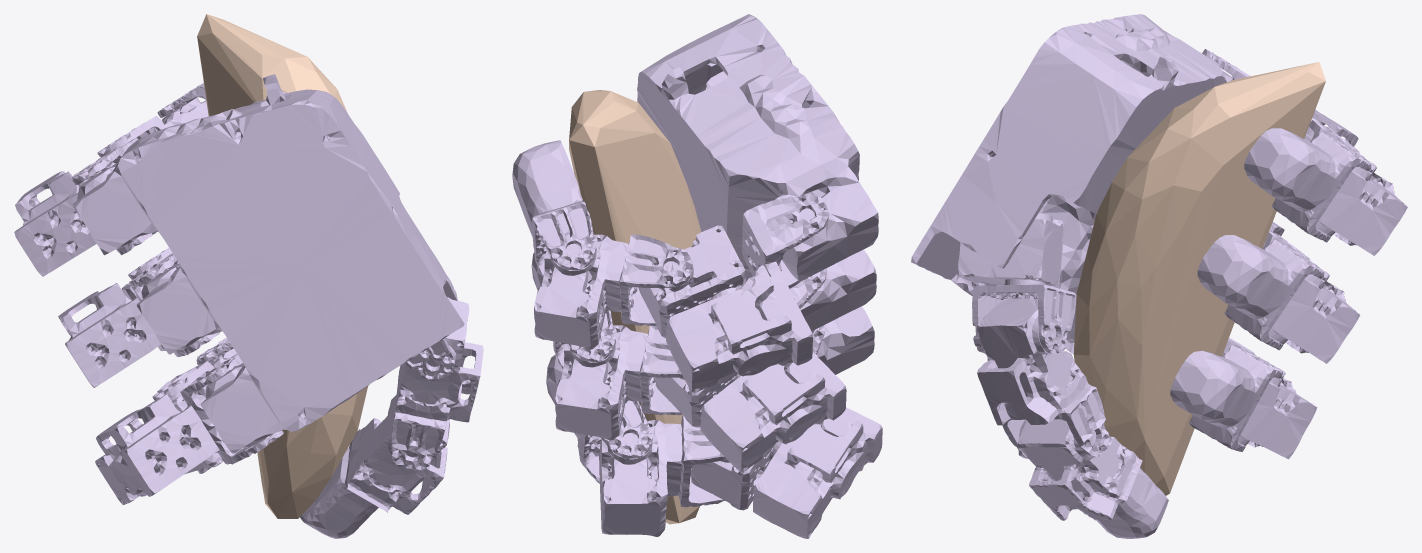
The model's file is 51654dffbf58f5-final.glb.
The picture shows the model from 3 angles, left to right: view 1: azimuth 30°, elevation 25°; view 2: azimuth 150°, elevation 25°; view 3: azimuth 270°, elevation 25°; orthographic projection. The views are drawn at different scales.
Parts seen in each view (by area): view 1: LEAP_hand, world; view 2: LEAP_hand, world; view 3: LEAP_hand, world.
Part boxes in pixels (x1,y1,x2,y2): LEAP_hand: (14, 74, 483, 538); world: (197, 14, 367, 518); LEAP_hand: (512, 14, 882, 538); world: (569, 90, 701, 524); LEAP_hand: (911, 14, 1407, 538); world: (1073, 62, 1325, 495).
Bounding box in the file's own units: 0.1481 × 0.1992 × 0.1892.
